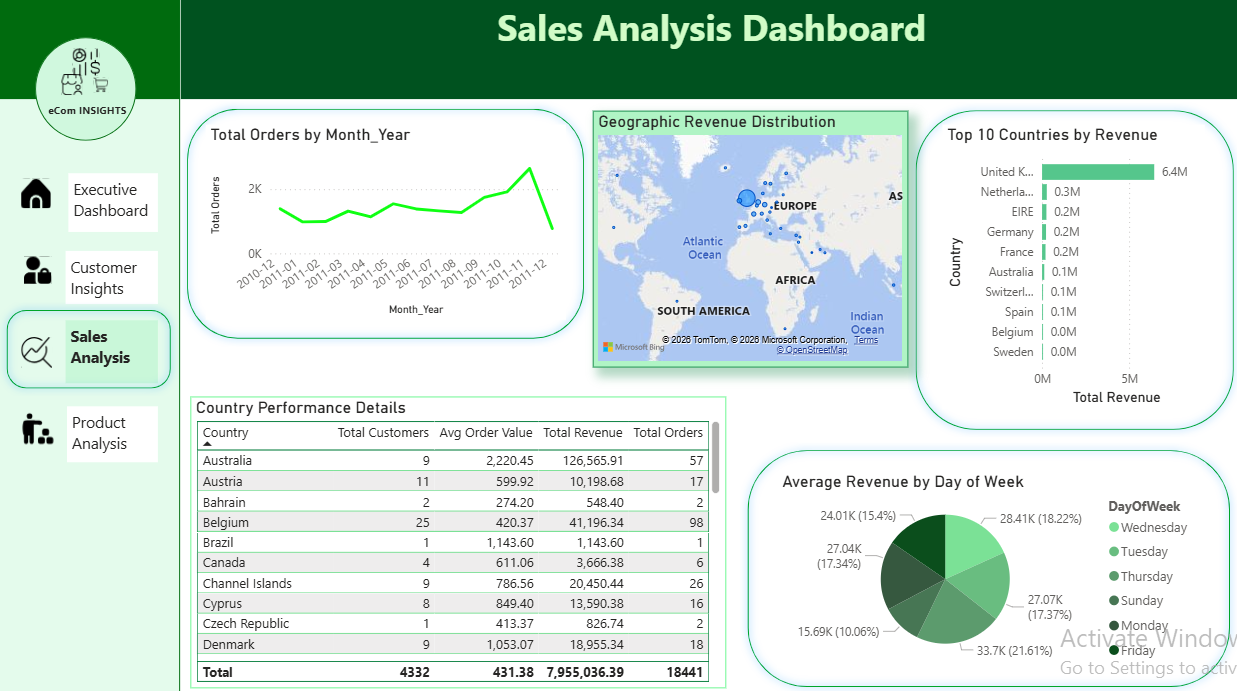

The dashboard page shown, as its layout file describes it:
{"tool":"powerbi","page":{"name":"Page 3","canvas":[1280,720],"ordinal":2},"visuals":[{"type":"shape","box":[763.1,459.6,513.1,260.2],"z":0},{"type":"shape","box":[936.6,108.4,344,345.4],"z":1000},{"type":"shape","box":[186.4,107,424.9,252.9],"z":2000},{"type":"shape","box":[0,0,186.7,720],"z":3000},{"type":"textbox","box":[186.7,0,1094.4,105.6],"z":4000},{"type":"actionButton","box":[18.8,182.5,46.2,38.8],"z":5000},{"type":"actionButton","box":[21.2,261.2,36.2,40],"z":6000},{"type":"actionButton","box":[18,338,40,58],"z":7000},{"type":"actionButton","box":[18.8,422.5,42.5,46.2],"z":8000},{"type":"textbox","box":[70.8,182.1,92.5,60.7],"z":9000},{"type":"textbox","box":[68.8,261.2,95,55],"z":10000},{"type":"textbox","box":[68.8,332.5,95,65],"z":11000},{"type":"textbox","box":[69.4,422,93.9,57.8],"z":12000},{"type":"lineChart","fields":{"Category":["public transactions.Month_Year"],"Y":["public transactions.Total Orders"]},"box":[212.5,131.5,371.4,200.9],"z":13000},{"type":"pieChart","title":"Average Revenue by Day of Week","fields":{"Category":["public features_daily_sales.DayOfWeek"],"Y":["public features_daily_sales.Avg Daily Revenue"]},"box":[802.2,488.5,437.9,202.3],"z":14000},{"type":"tableEx","title":"Country Performance Details","fields":{"Values":["public transactions.Country","public transactions.Total Customers","public transactions.Avg Order Value","public transactions.Total Revenue","public transactions.Total Orders"]},"box":[198,411.9,552.1,300.6],"z":15000},{"type":"clusteredBarChart","title":"Top 10 Countries by Revenue","fields":{"Category":["public transactions.Country"],"Y":["public transactions.Total Revenue"]},"box":[972.7,131.5,270.3,293.4],"z":16000},{"type":"map","title":"Geographic Revenue Distribution","fields":{"Category":["public transactions.Country"],"Size":["public transactions.Total Revenue"]},"box":[611.4,117.1,325.2,264.5],"z":17000},{"type":"shape","box":[0,0,186.4,105.5],"z":18000},{"type":"shape","box":[37.8,41.7,104.4,106.7],"z":19000},{"type":"actionButton","box":[60,72.8,29.6,34.4],"z":20000},{"type":"actionButton","box":[93.3,78.3,41.1,23.3],"z":21000},{"type":"actionButton","box":[71.1,48.9,77.8,36.1],"z":22000},{"type":"textbox","box":[46.1,101.7,139.4,30],"z":23000},{"type":"shape","box":[0,315.1,185,96.8],"z":24000}]}

Visuals, with their boxes on the page's 1280x720 design canvas (x1, y1, x2, y2). These are canvas units, not pixel positions in the 1237x691 screenshot, which may show the page scaled, cropped or inside an application window:
shape: locate(763, 460, 1276, 720)
shape: locate(937, 108, 1281, 454)
shape: locate(186, 107, 611, 360)
shape: locate(0, 0, 187, 720)
textbox: locate(187, 0, 1281, 106)
actionButton: locate(19, 182, 65, 221)
actionButton: locate(21, 261, 57, 301)
actionButton: locate(18, 338, 58, 396)
actionButton: locate(19, 422, 61, 469)
textbox: locate(71, 182, 163, 243)
textbox: locate(69, 261, 164, 316)
textbox: locate(69, 332, 164, 398)
textbox: locate(69, 422, 163, 480)
lineChart - public transactions.Month_Year x public transactions.Total Orders: locate(212, 132, 584, 332)
"Average Revenue by Day of Week" pieChart: locate(802, 488, 1240, 691)
"Country Performance Details" tableEx: locate(198, 412, 750, 712)
"Top 10 Countries by Revenue" clusteredBarChart: locate(973, 132, 1243, 425)
"Geographic Revenue Distribution" map: locate(611, 117, 937, 382)
shape: locate(0, 0, 186, 106)
shape: locate(38, 42, 142, 148)
actionButton: locate(60, 73, 90, 107)
actionButton: locate(93, 78, 134, 102)
actionButton: locate(71, 49, 149, 85)
textbox: locate(46, 102, 186, 132)
shape: locate(0, 315, 185, 412)
